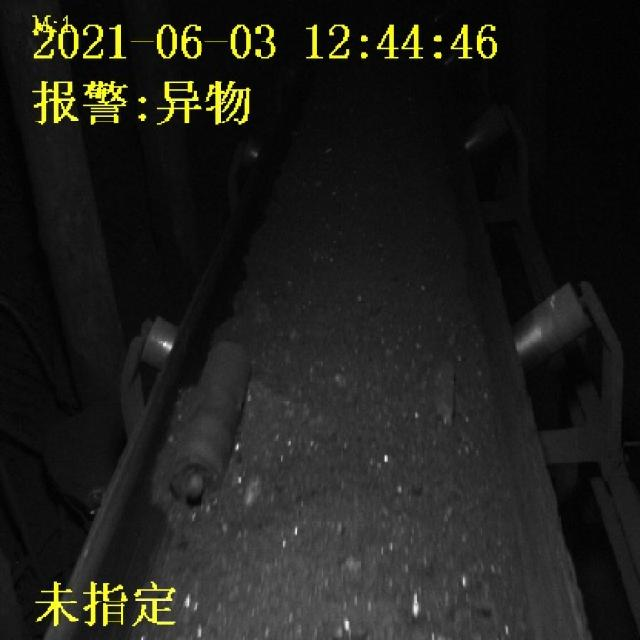bolt: (168, 340, 246, 514)
